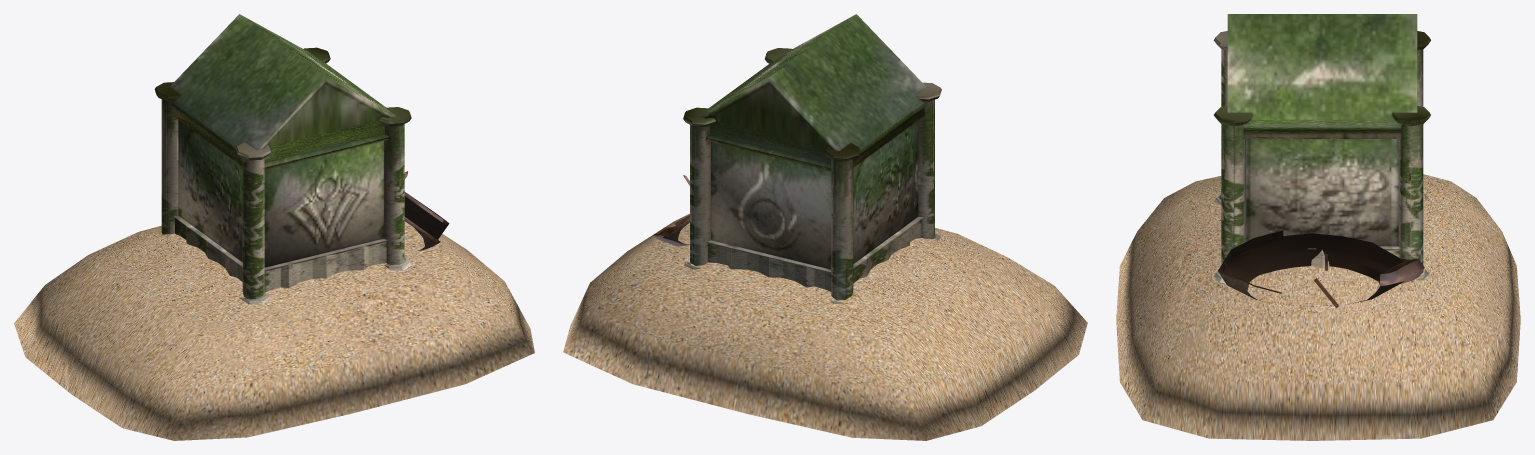
File: track7Building1.glb
3 views of the same model, side by side, from view 1: azimuth 30°, elevation 25°; view 2: azimuth 150°, elevation 25°; view 3: azimuth 270°, elevation 25° (orthographic). The views are drawn at different scales.
Parts seen in each view (by area): view 1: Cube.019; view 2: Cube.019; view 3: Cube.019.
Part boxes in pixels (x1,y1,x2,y2): Cube.019: [14, 14, 534, 440]; Cube.019: [563, 14, 1087, 440]; Cube.019: [1116, 14, 1520, 440].
Bounding box in the file's own units: 12.87 × 8.9 × 9.91.
Materials: 3 (3 with a texture image).
